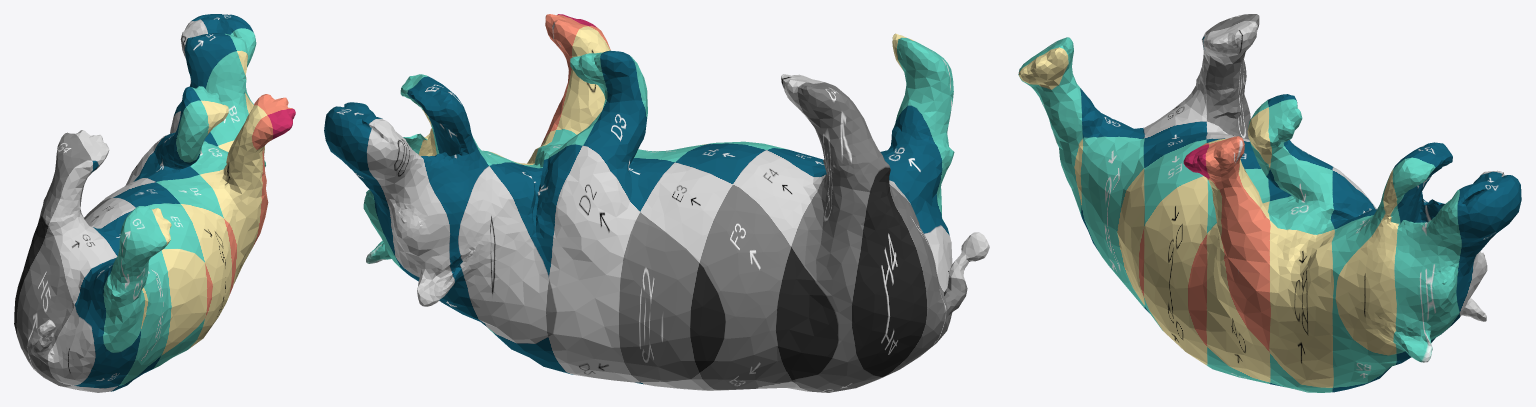
The model's file is hippo_06-hippo_06.obj.
3 views of the same model, side by side, from view 1: azimuth 30°, elevation 25°; view 2: azimuth 150°, elevation 25°; view 3: azimuth 270°, elevation 25° (orthographic). The views are drawn at different scales.
Visible parts, largest first — view 1: hippo_06-hippo_06_export; view 2: hippo_06-hippo_06_export; view 3: hippo_06-hippo_06_export.
Part boxes in pixels (x1,y1,x2,y2): hippo_06-hippo_06_export: (14, 14, 295, 392); hippo_06-hippo_06_export: (324, 14, 989, 392); hippo_06-hippo_06_export: (1018, 14, 1521, 392).
Size of the model in its own units: 0.7416 by 0.49 by 0.7229.
